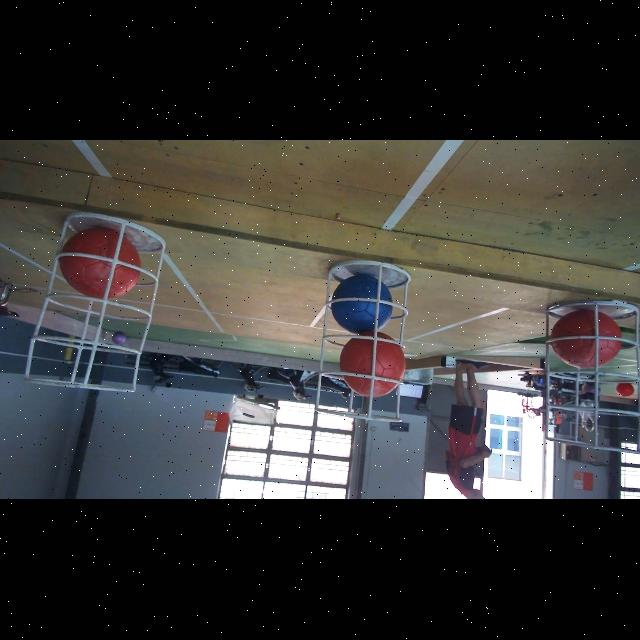B: (331, 274, 394, 334)
R: (60, 224, 140, 300), (551, 309, 623, 369), (339, 334, 406, 398)
